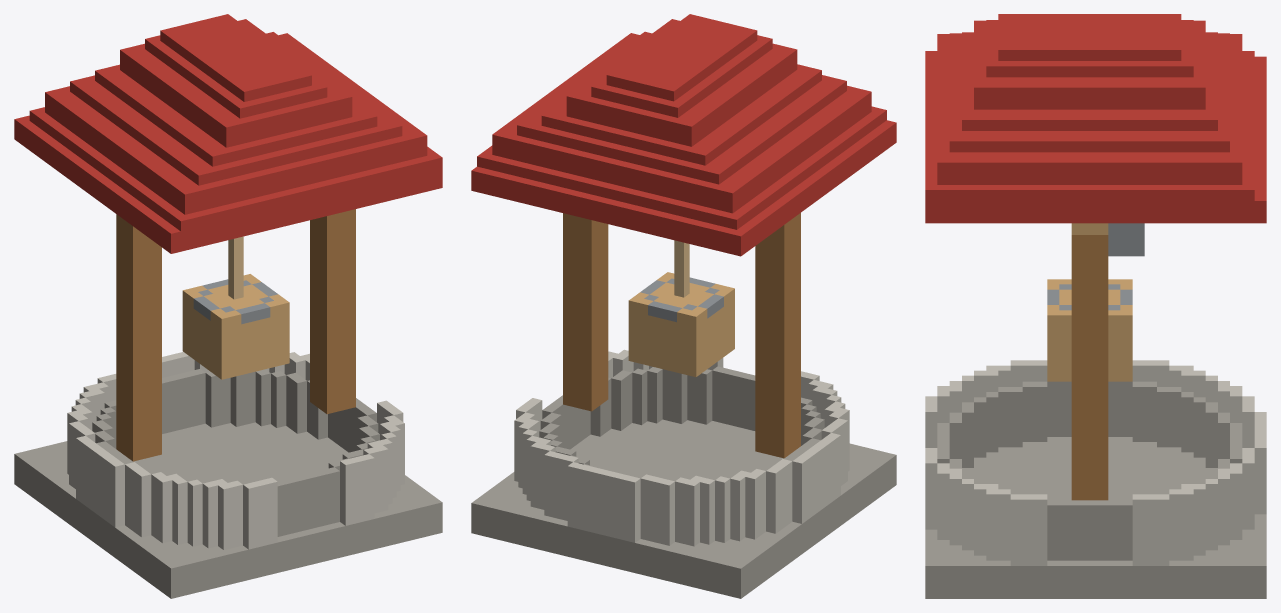
Rendered from hearthvale_furniture_well.obj.
3 views of the same model, side by side, from view 1: azimuth 30°, elevation 25°; view 2: azimuth 150°, elevation 25°; view 3: azimuth 270°, elevation 25° (orthographic). The views are drawn at different scales.
Parts seen in each view (by area): view 1: palette_18, palette_7, palette_8, palette_2, palette_3, palette_5, palette_16; view 2: palette_18, palette_7, palette_8, palette_2, palette_3, palette_5, palette_16; view 3: palette_18, palette_7, palette_8, palette_2, palette_3, palette_5.
Part boxes in pixels (bbox=[...]): palette_18: bbox=[14, 14, 442, 253]; palette_7: bbox=[14, 369, 442, 598]; palette_8: bbox=[67, 352, 404, 549]; palette_2: bbox=[116, 209, 355, 461]; palette_3: bbox=[182, 274, 289, 379]; palette_5: bbox=[193, 279, 277, 324]; palette_16: bbox=[228, 236, 243, 299]; palette_18: bbox=[471, 14, 896, 256]; palette_7: bbox=[471, 366, 896, 598]; palette_8: bbox=[514, 349, 849, 546]; palette_2: bbox=[563, 213, 800, 458]; palette_3: bbox=[628, 272, 734, 377]; palette_5: bbox=[640, 277, 723, 322]; palette_16: bbox=[674, 240, 689, 297]; palette_18: bbox=[925, 14, 1266, 223]; palette_7: bbox=[925, 381, 1266, 598]; palette_8: bbox=[925, 360, 1266, 565]; palette_2: bbox=[1071, 235, 1108, 500]; palette_3: bbox=[1047, 223, 1132, 381]; palette_5: bbox=[1047, 223, 1144, 310].
Bounding box in the file's own units: 1.75 × 2.81 × 1.75.
